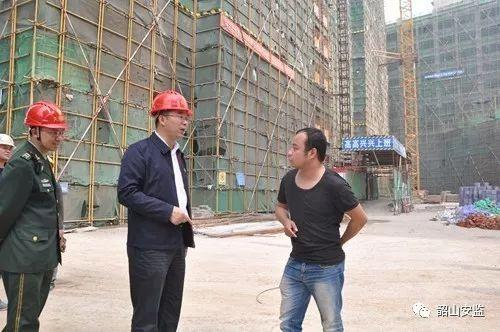helmet: (24, 100, 69, 130), (152, 91, 195, 120), (1, 134, 18, 150)
